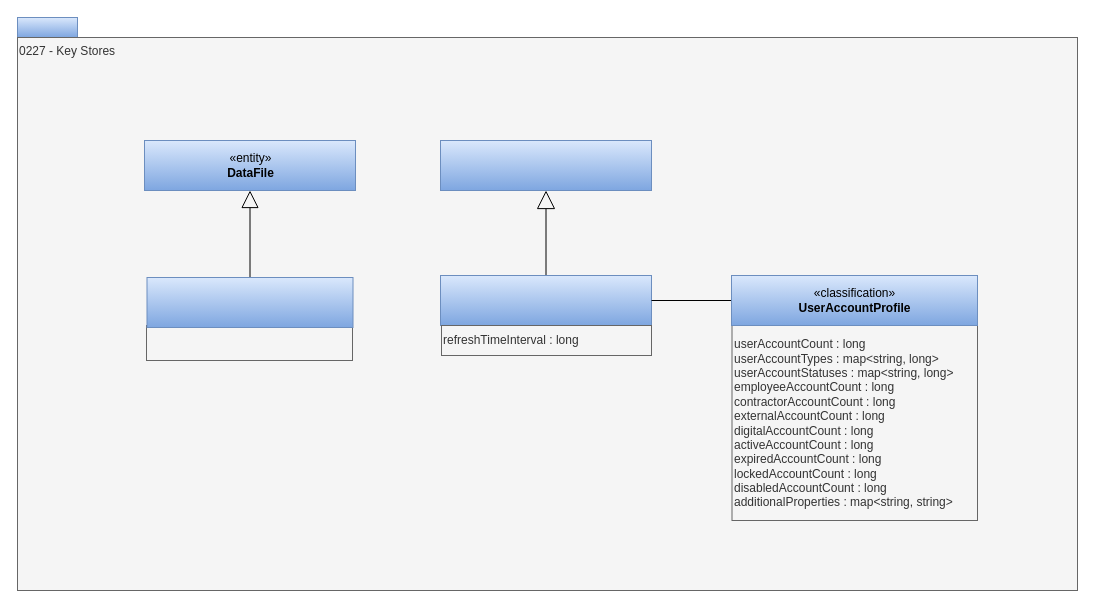
Image size: 1095x608. Some labels were removed from this diagram. The centre of each missing label's shape, as x and y in pixels:
"«entity» DataSet" belongs at [546,165].
"«entity» KeyStoreFile" belongs at [249,302].
"«entity» SecretsCollection" belongs at [546,300].
